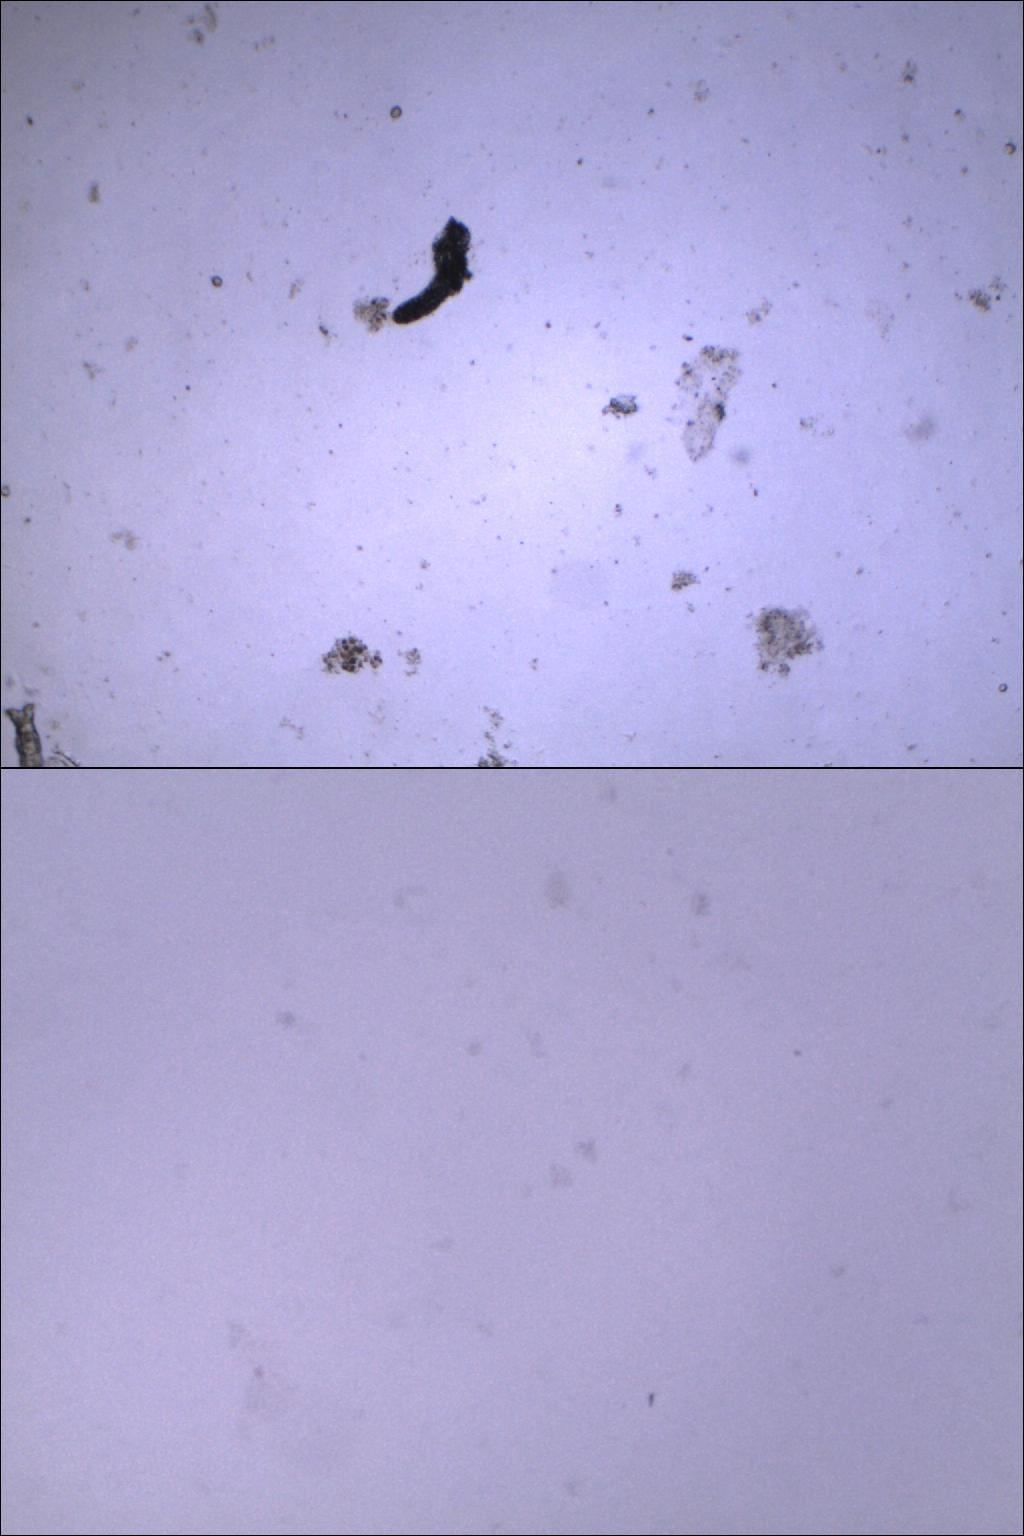N.Fowleri Amoeba: (207, 1291, 338, 1467)
Proteus Amoeba: (378, 205, 502, 339)
